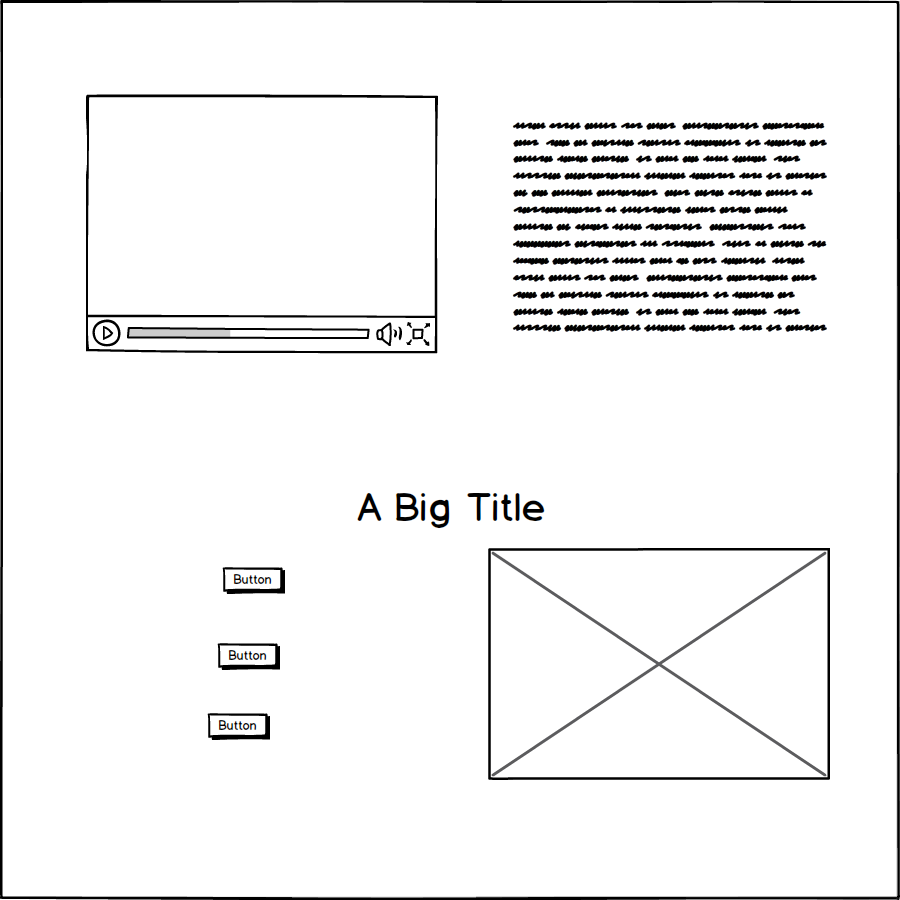button: (205, 704, 286, 751), (213, 559, 292, 599), (209, 638, 287, 675)
h1: (353, 485, 552, 529)
image: (485, 543, 834, 784)
p: (504, 115, 844, 336)
video: (76, 82, 455, 360)
